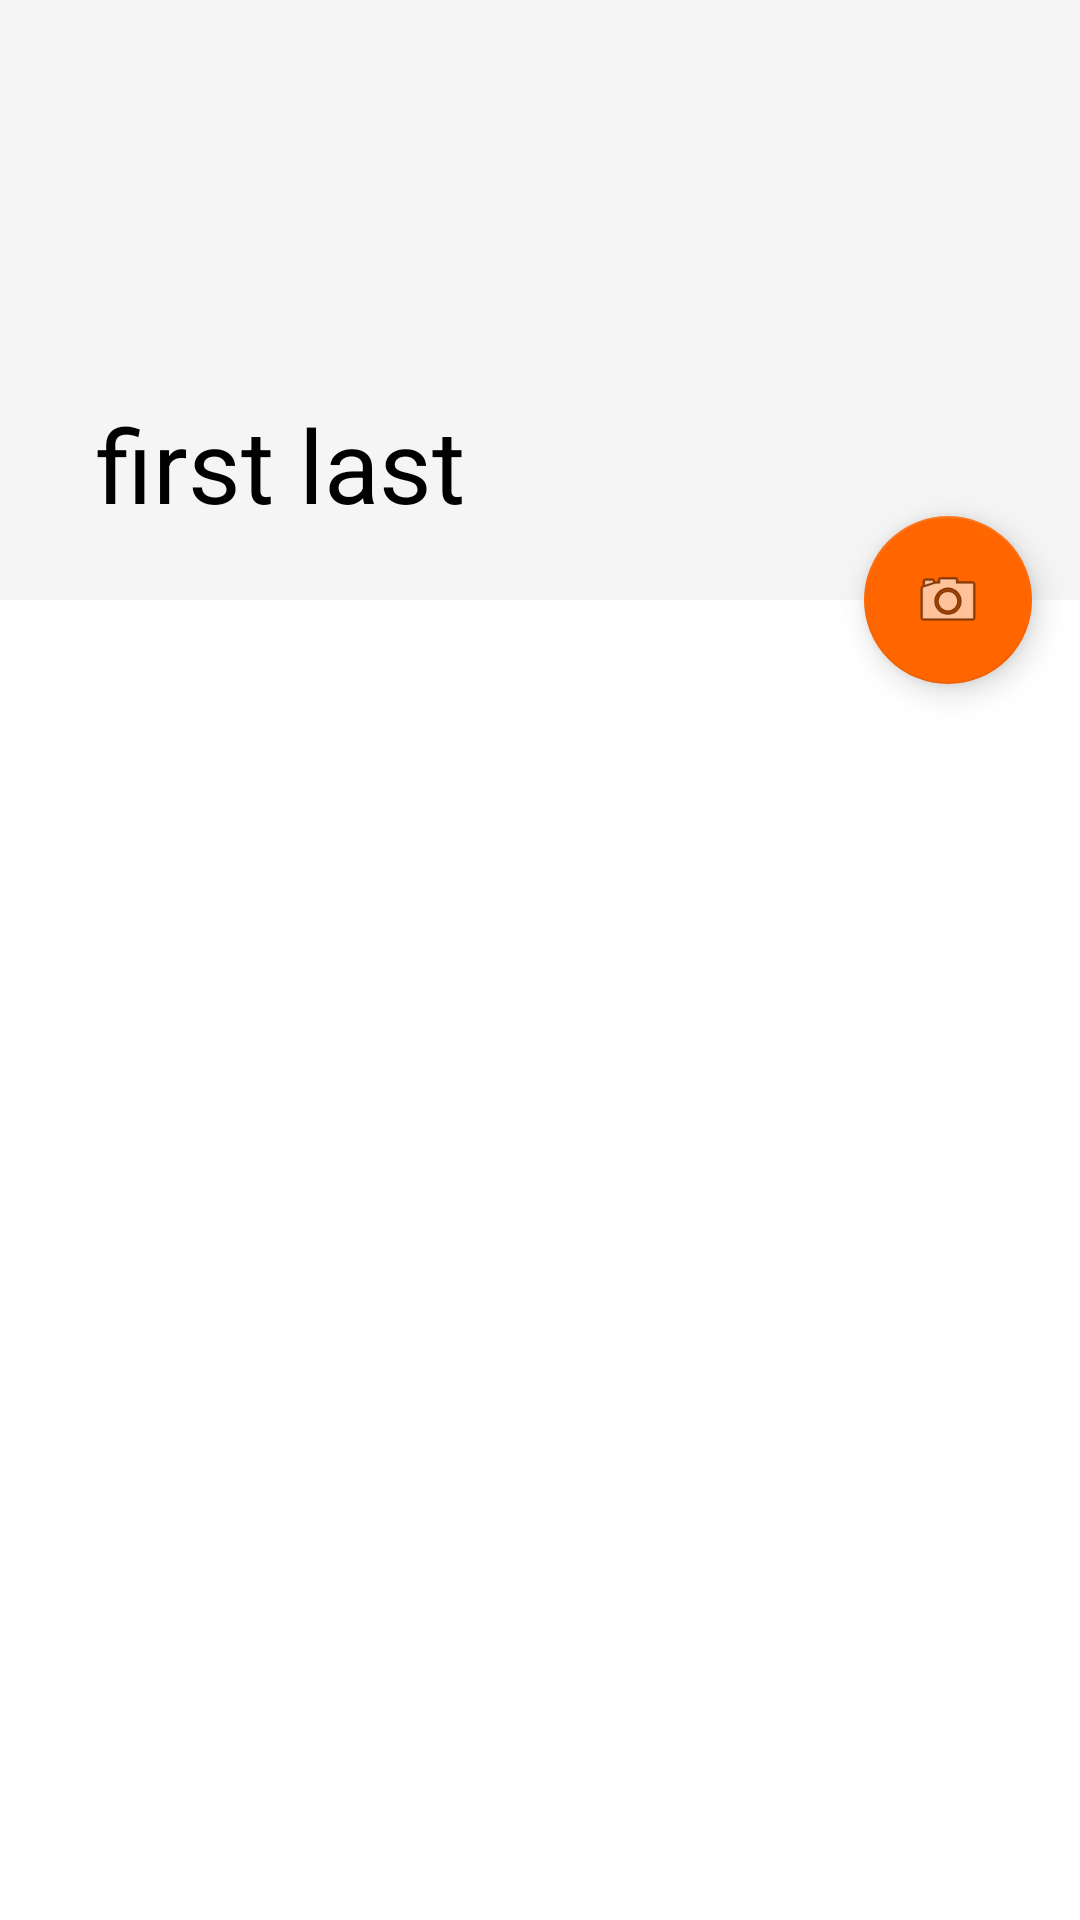

Where icons sit on this 1080*1920 app screen, as (x1, y1, x2, y2):
camera: (864, 516, 1032, 684)
